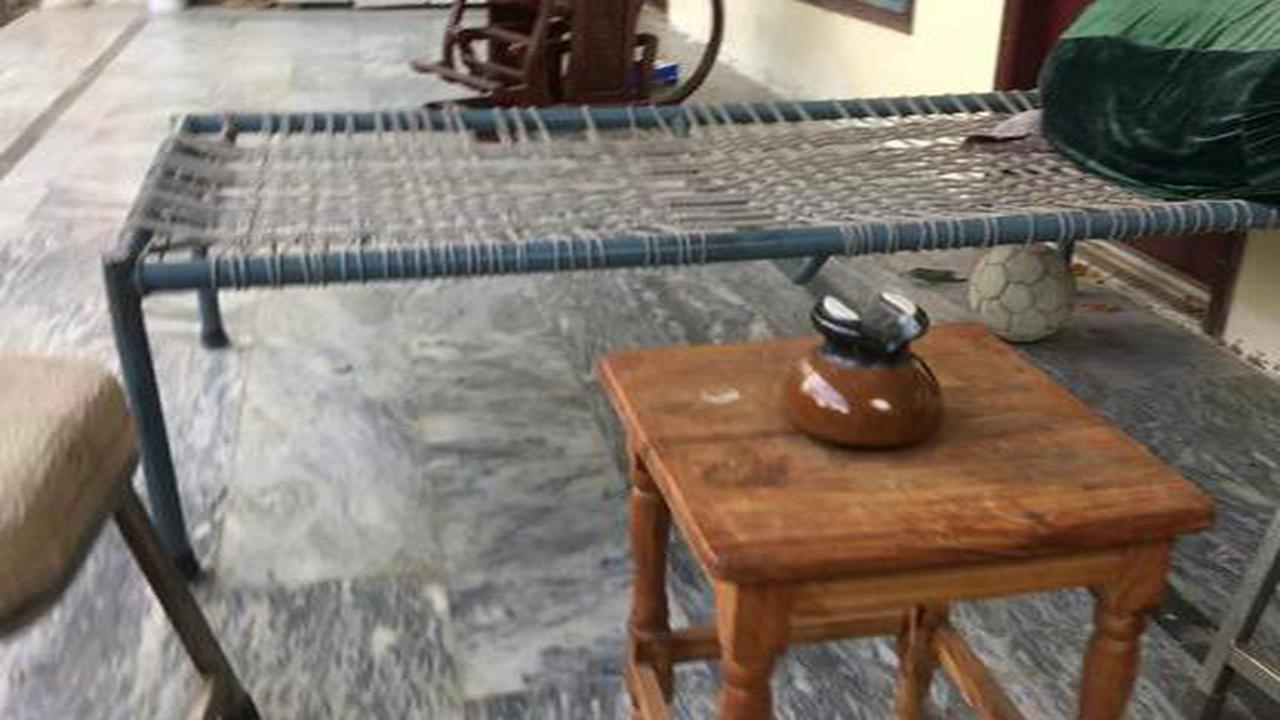insulator_pin: (767, 267, 970, 463)
